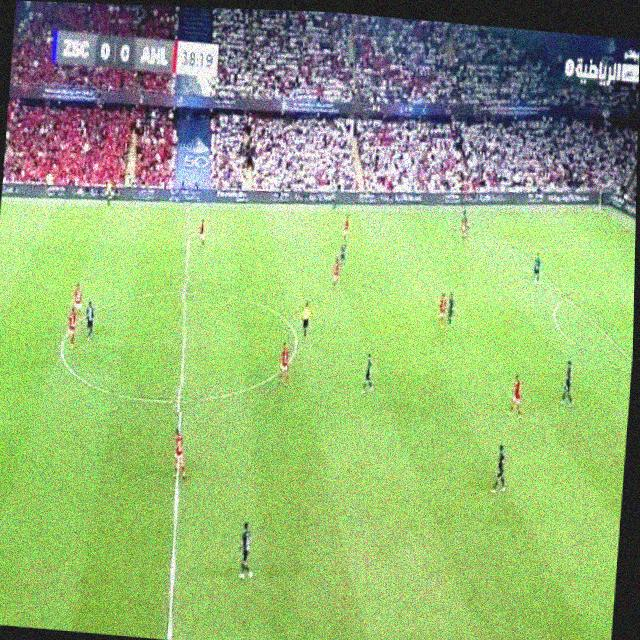bigarea_top_inner: (511, 245, 520, 253)
corner: (593, 207, 599, 211)
halfcircle_bottom: (172, 385, 188, 413)
halfcircle_top: (176, 282, 194, 303)
midline_top_intersection: (183, 201, 194, 214)
top_arc_area_intersection: (562, 292, 571, 302)
